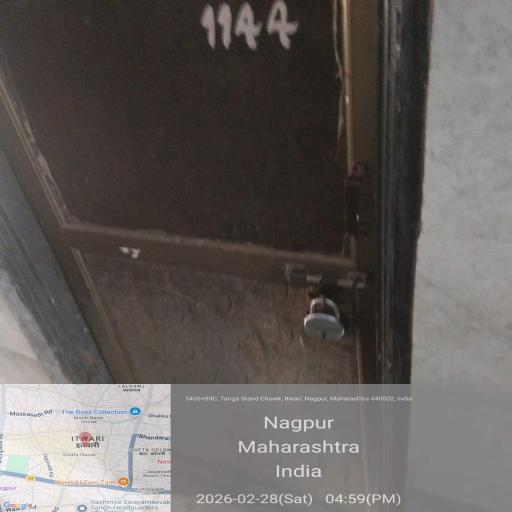partial_dirty_floor: (74, 83, 425, 512)
